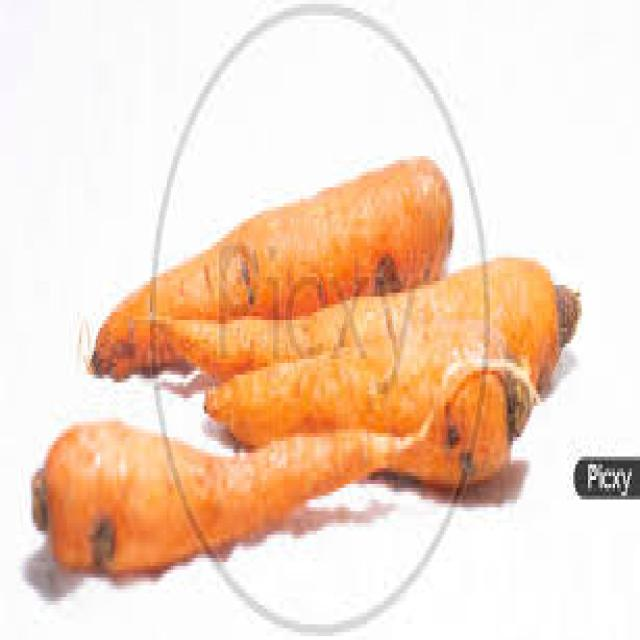Stale_Carrot: (89, 195, 579, 560)
